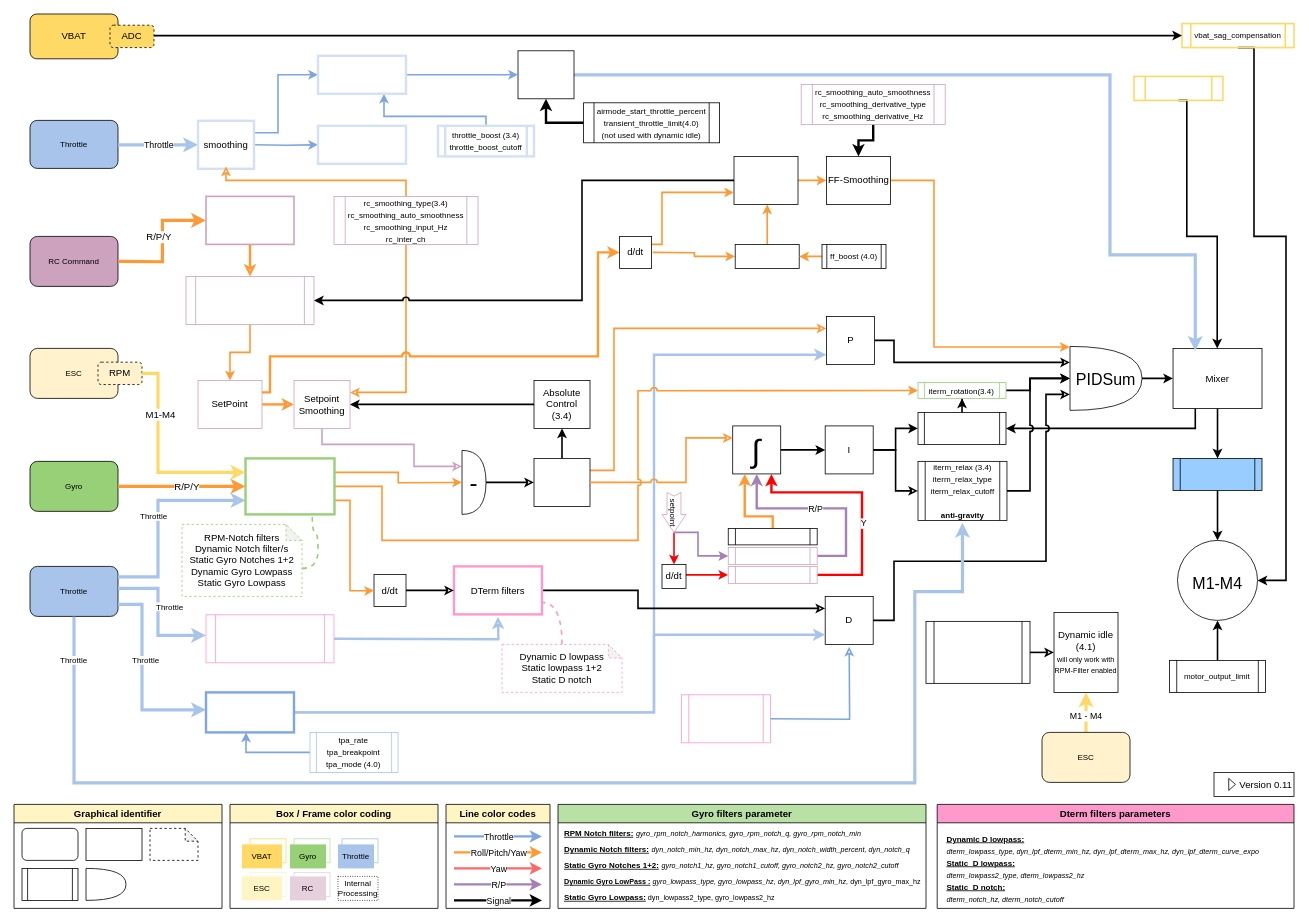
This 1309x922 diagram has some shape labels left out. The centre of each missing label's shape, as x and y in pixels:
acc_limit (4.2): point 772,555
acc_limit_yaw (4.2): point 772,574
Airmode: point 545,74
Dmin / Dmax (4.0) d_min_advance d_min_gain: point 725,718
dyn_lpf_dterm_curve_expo: point 269,638
Feedforward: point 765,180
FF-Boost: point 766,256
Function: point 113,844
Gyro filters: point 289,486
idle_min_rpm idle_adjustment_speed idle_p idle_pid_limit idle_max_increase: point 977,652
iterm limits (?): point 772,536
iterm_windup (4.2 upd): point 961,428
Junction: point 105,884
note: point 173,844
Parameter: point 49,884
PID at zero throttle (3.4): point 361,144
Rates & Expo: point 249,220
rc_interpolation rc_interp rc_inter_ch rc_inter_int: point 249,300
Setpoint ERROR: point 561,482
Signal input: point 49,844
Throttle-Boost: point 361,74
thrust_linear (4.0): point 1217,474
TPA: point 249,712
vbat_pid_gain: point 1178,88
